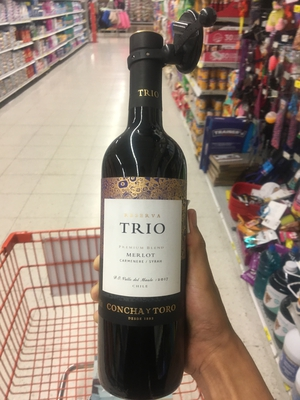trio merlot: (88, 25, 194, 396)
